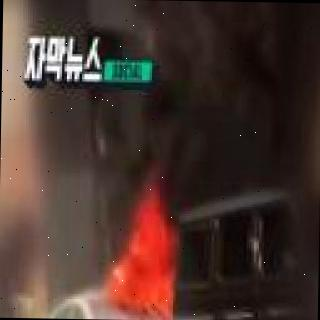fire: (114, 230, 172, 305)
